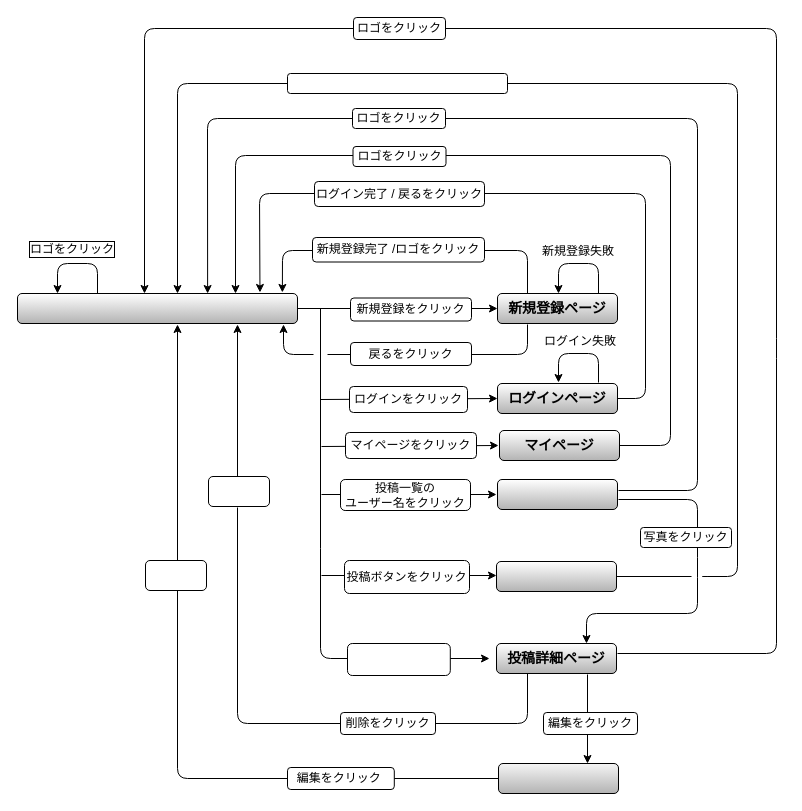
Some shapes in this 802 by 811 pixel diagram are drawn without their labels. The centre of each missing label's shape, as x and y in pixels:
トップページ: point (157, 308)
ユーザーページ: point (557, 494)
削除完了: point (239, 491)
投稿一覧の写真 をクリック: point (398, 659)
投稿完了 / ロゴ・戻るボタンをクリック: point (397, 83)
投稿編集ページ: point (558, 778)
新規投稿ページ: point (556, 576)
編集完了: point (175, 575)
